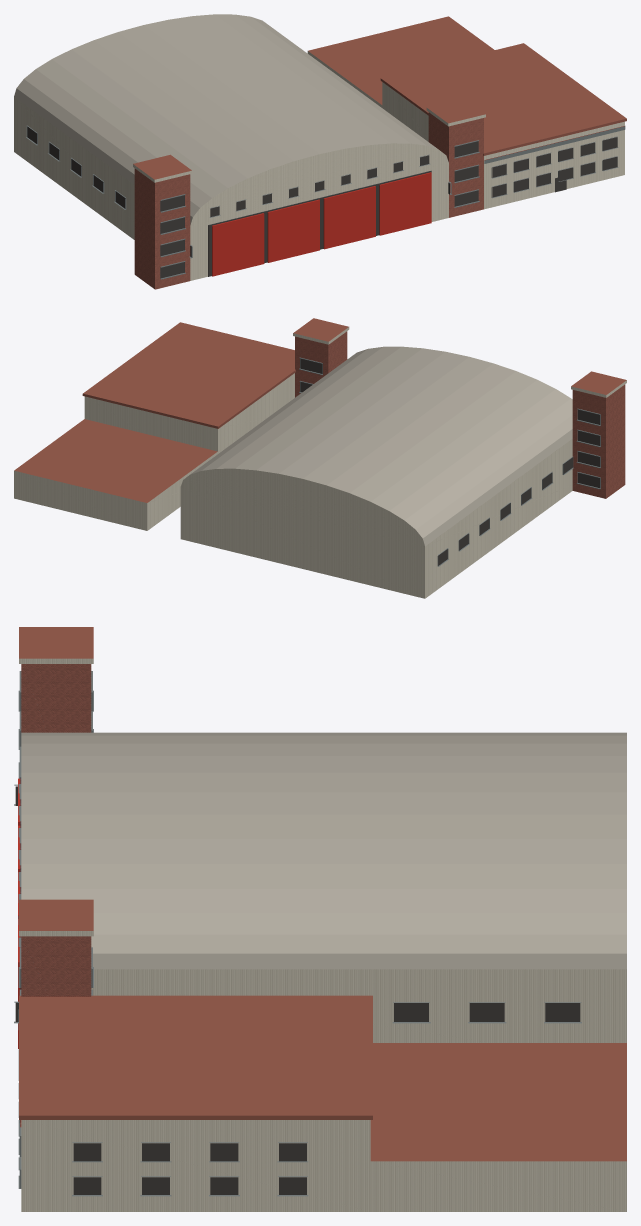
File: cyxd_hangar_second_lod1.gltf
3 views of the same model, one above another, from view 1: azimuth 30°, elevation 25°; view 2: azimuth 150°, elevation 25°; view 3: azimuth 270°, elevation 25° (orthographic). The views are drawn at different scales.
Parts seen in each view (by area): view 1: cyxd_hangar_second; view 2: cyxd_hangar_second; view 3: cyxd_hangar_second.
Part boxes in pixels (x1,y1,x2,y2): cyxd_hangar_second: (14,14,626,289); cyxd_hangar_second: (14,318,626,598); cyxd_hangar_second: (14,627,626,1211).
Bounding box in the file's own units: 80.44 × 18 × 52.63.
